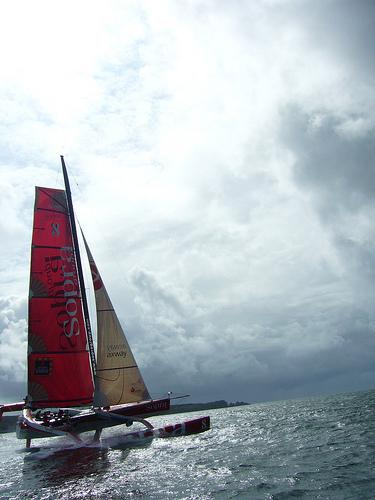Ship: (1, 157, 212, 457)
